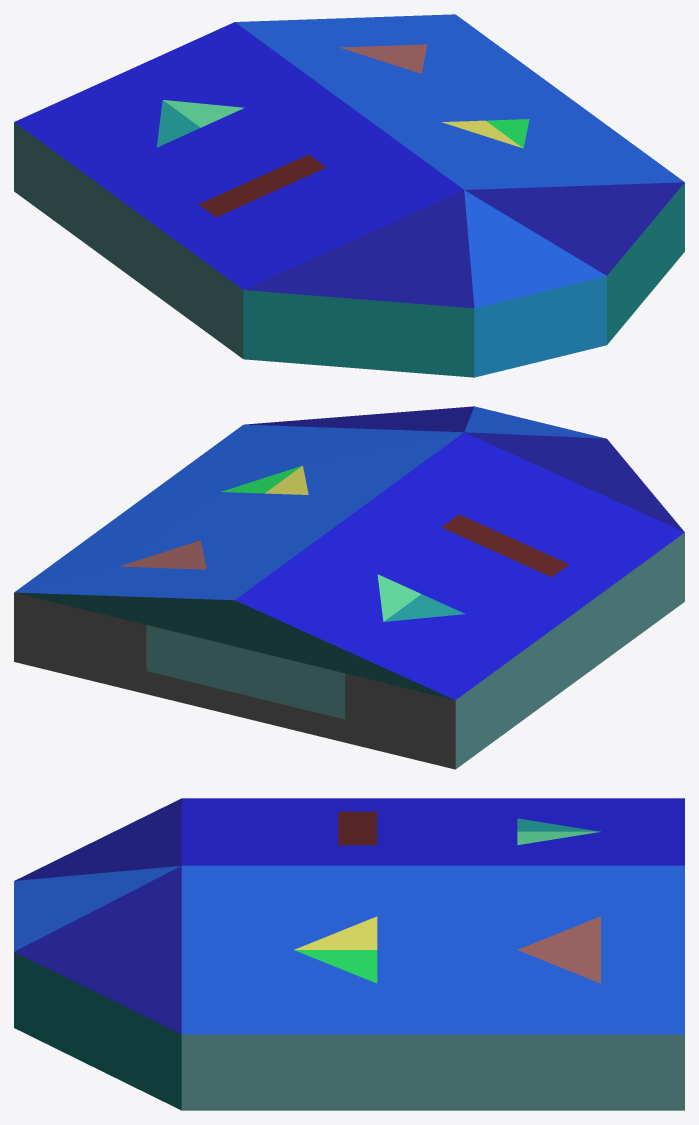
Rendered from arc_transporter.glb.
3 renders of one model, top to bottom at view 1: azimuth 30°, elevation 25°; view 2: azimuth 150°, elevation 25°; view 3: azimuth 270°, elevation 25°, orthographic. The views are drawn at different scales.
Parts seen in each view (by area): view 1: griff_arcelite_transporter; view 2: griff_arcelite_transporter, griff_arcelite_transporter.001; view 3: griff_arcelite_transporter.
Boxes of the visible parts, x1,y1,x2,y2 form: griff_arcelite_transporter: [14, 14, 684, 377]; griff_arcelite_transporter: [14, 406, 684, 769]; griff_arcelite_transporter.001: [146, 625, 345, 719]; griff_arcelite_transporter: [14, 798, 684, 1110].
Size of the model in its own units: 0.3039 by 0.076 by 0.3647.
1 material, 1 textured.
